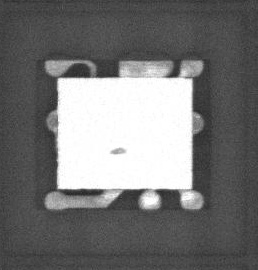DIE_INK: (104, 154, 121, 163)
